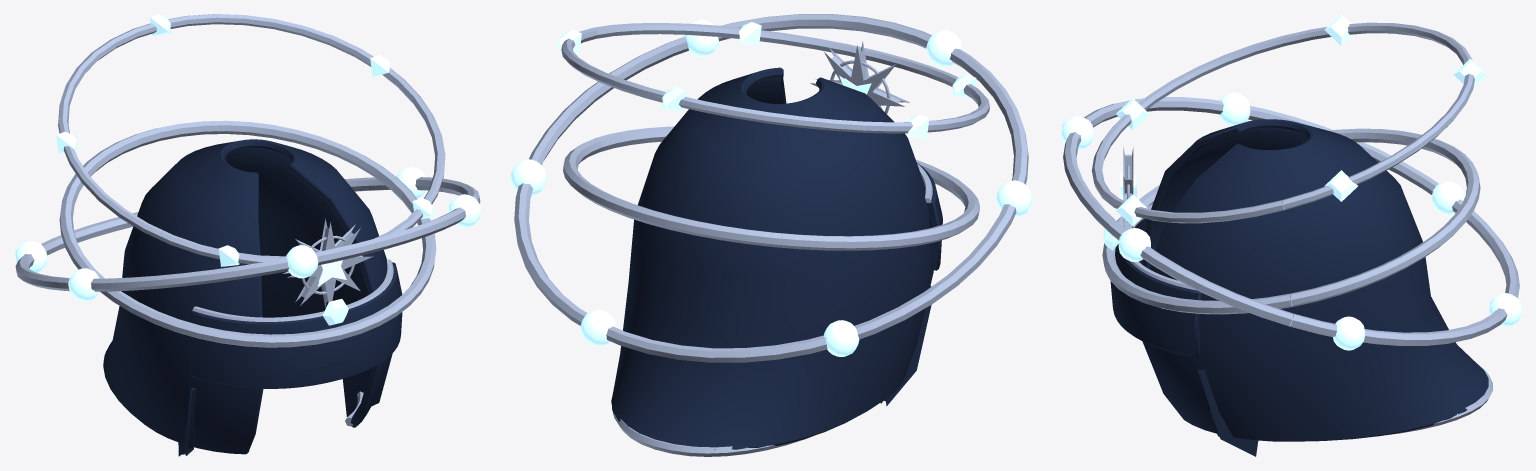
The model's file is asc_orbit_sentinel_helm.glb.
3 renders of one model, left to right at view 1: azimuth 30°, elevation 25°; view 2: azimuth 150°, elevation 25°; view 3: azimuth 270°, elevation 25°, orthographic. The views are drawn at different scales.
Visible parts, largest first — view 1: asc_orbit_sentinel_helm; view 2: asc_orbit_sentinel_helm; view 3: asc_orbit_sentinel_helm.
Boxes of the visible parts, left/top/right/bottom form: asc_orbit_sentinel_helm: left=14, top=14, right=481, bottom=456; asc_orbit_sentinel_helm: left=510, top=14, right=1032, bottom=456; asc_orbit_sentinel_helm: left=1061, top=14, right=1521, bottom=456.
Bounding box in the file's own units: 0.6236 × 0.4996 × 0.593.
